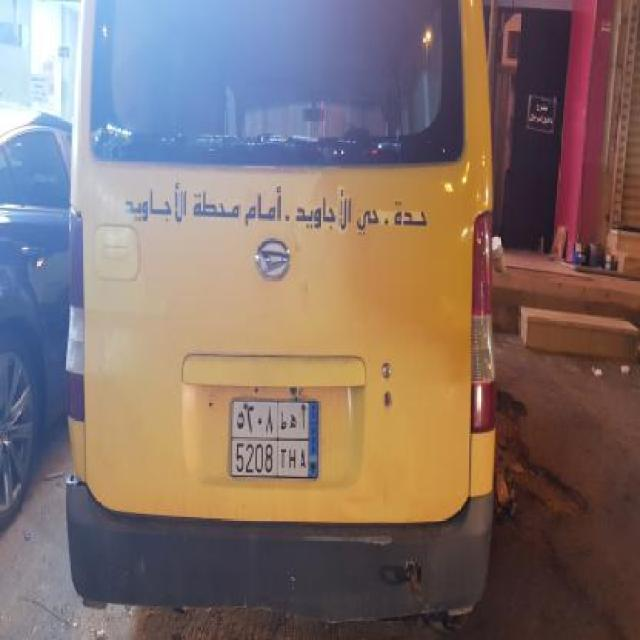license_plate: (229, 397, 320, 481)
